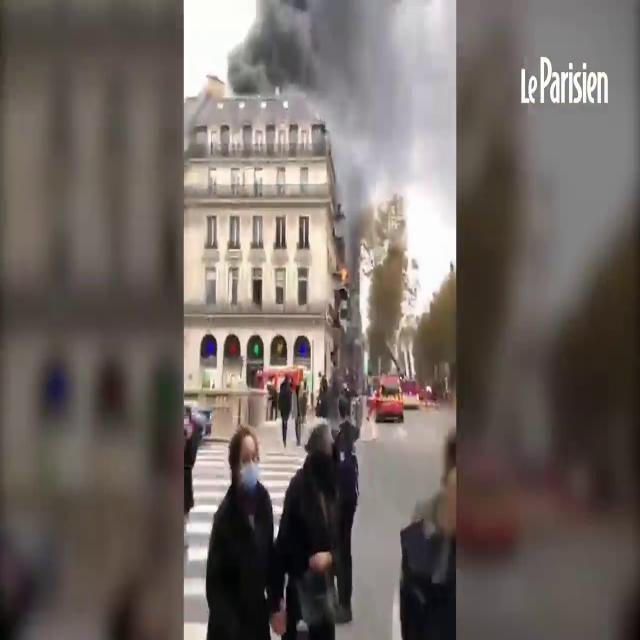Smoke: (202, 1, 398, 175)
